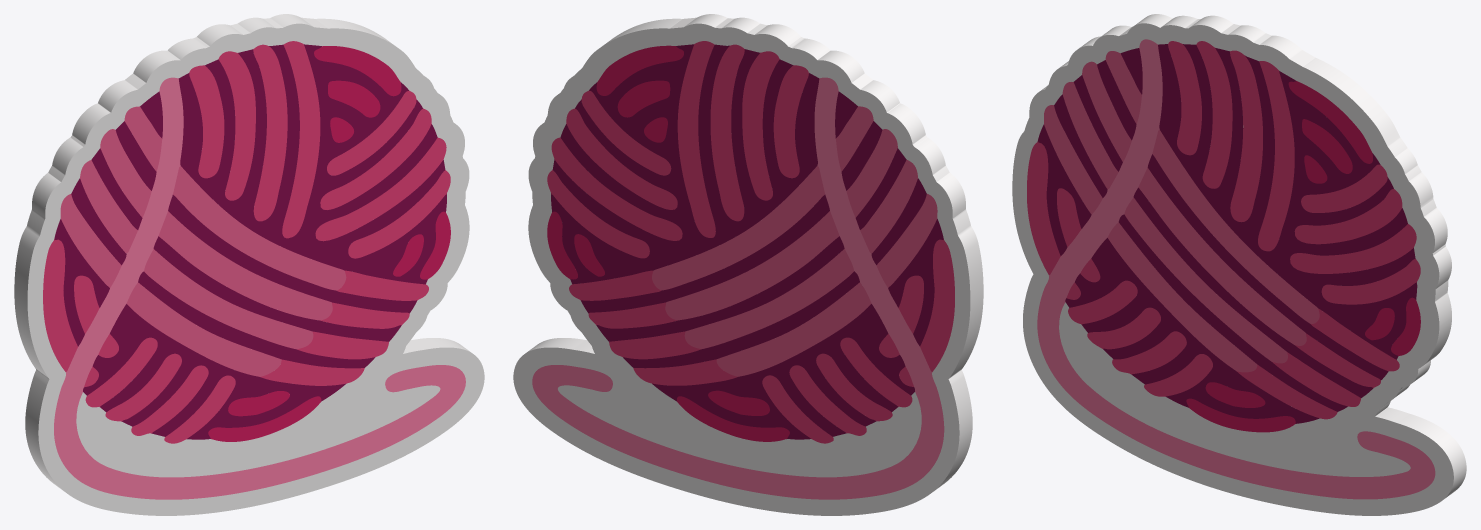
The model's file is novelo.glb.
3 views of the same model, side by side, from view 1: azimuth 30°, elevation 25°; view 2: azimuth 150°, elevation 25°; view 3: azimuth 330°, elevation 25° (orthographic). The views are drawn at different scales.
Parts seen in each view (by area): view 1: Curve, Curve.001, Curve.002, Curve.003, Curve.041, Curve.046, Curve.047, Curve.048, Curve.004, Curve.005, Curve.006, Curve.007 (+32 smaller); view 2: Curve, Curve.108, Curve.107, Curve.106, Curve.068, Curve.063, Curve.062, Curve.061, Curve.105, Curve.104, Curve.103, Curve.102 (+32 smaller); view 3: Curve, Curve.001, Curve.002, Curve.003, Curve.041, Curve.046, Curve.047, Curve.048, Curve.004, Curve.005, Curve.006, Curve.007 (+32 smaller).
Part boxes in pixels (<box>): Curve: <box>14,14,484,515</box>; Curve.001: <box>178,44,446,284</box>; Curve.002: <box>54,77,465,499</box>; Curve.003: <box>83,304,345,439</box>; Curve.041: <box>173,166,346,290</box>; Curve.046: <box>158,211,332,320</box>; Curve.047: <box>144,249,313,349</box>; Curve.048: <box>126,282,281,376</box>; Curve.004: <box>282,41,320,238</box>; Curve.005: <box>253,44,287,221</box>; Curve.006: <box>168,195,417,313</box>; Curve.007: <box>153,236,401,341</box>; Curve: <box>513,14,983,515</box>; Curve.108: <box>551,44,819,284</box>; Curve.107: <box>532,77,944,499</box>; Curve.106: <box>652,304,914,439</box>; Curve.068: <box>652,166,824,290</box>; Curve.063: <box>665,211,839,320</box>; Curve.062: <box>684,249,853,349</box>; Curve.061: <box>716,282,871,376</box>; Curve.105: <box>677,41,715,237</box>; Curve.104: <box>710,44,744,221</box>; Curve.103: <box>581,194,829,313</box>; Curve.102: <box>596,236,844,341</box>; Curve: <box>1012,14,1466,515</box>; Curve.001: <box>1158,44,1417,359</box>; Curve.002: <box>1037,39,1435,499</box>; Curve.003: <box>1065,238,1319,423</box>; Curve.041: <box>1152,130,1319,323</box>; Curve.046: <box>1138,167,1306,345</box>; Curve.047: <box>1124,197,1287,363</box>; Curve.048: <box>1107,222,1257,372</box>; Curve.004: <box>1258,61,1294,251</box>; Curve.005: <box>1230,50,1262,222</box>; Curve.006: <box>1147,154,1388,379</box>; Curve.007: <box>1133,187,1373,397</box>.
Bounding box in the file's own units: 0.1 × 0.1 × 0.0058.
